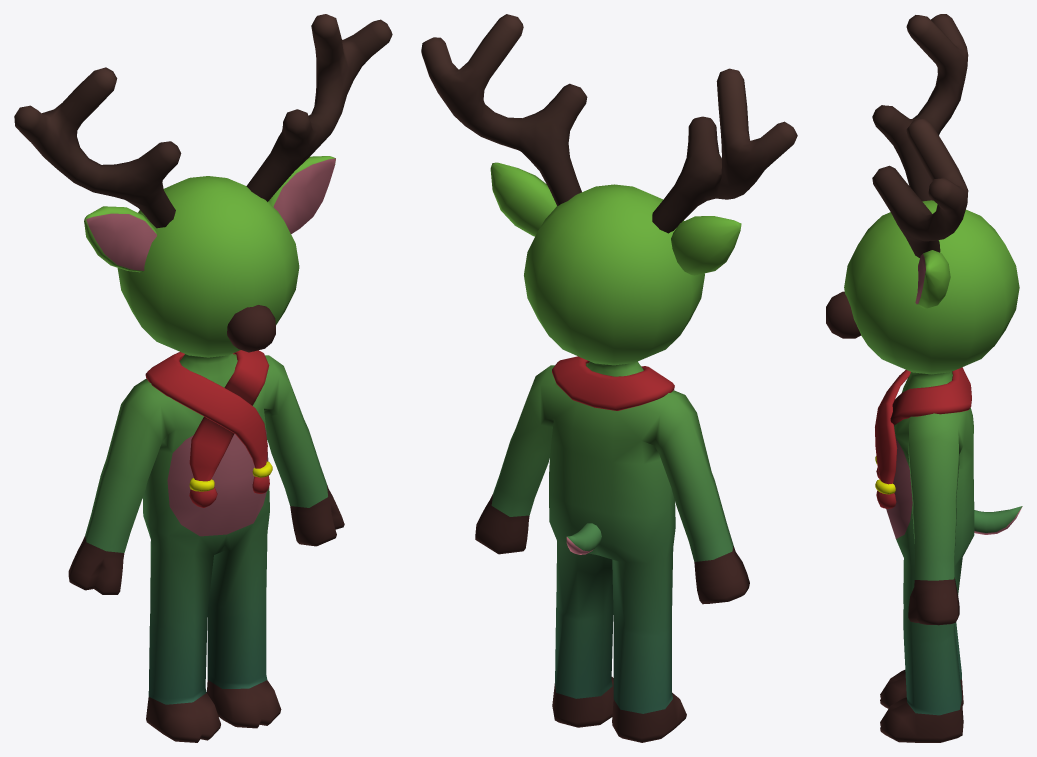
Rendered from Hero_Deer.fbx.
The picture shows the model from 3 angles, left to right: view 1: azimuth 30°, elevation 25°; view 2: azimuth 150°, elevation 25°; view 3: azimuth 270°, elevation 25°; orthographic projection. The views are drawn at different scales.
Visible parts, largest first — view 1: Hero_Deer; view 2: Hero_Deer; view 3: Hero_Deer.
Part boxes in pixels (<box>): Hero_Deer: <box>14,14,392,742</box>; Hero_Deer: <box>421,14,797,742</box>; Hero_Deer: <box>826,14,1022,742</box>.
Bounding box in the file's own units: 169 × 293 × 80.19.
